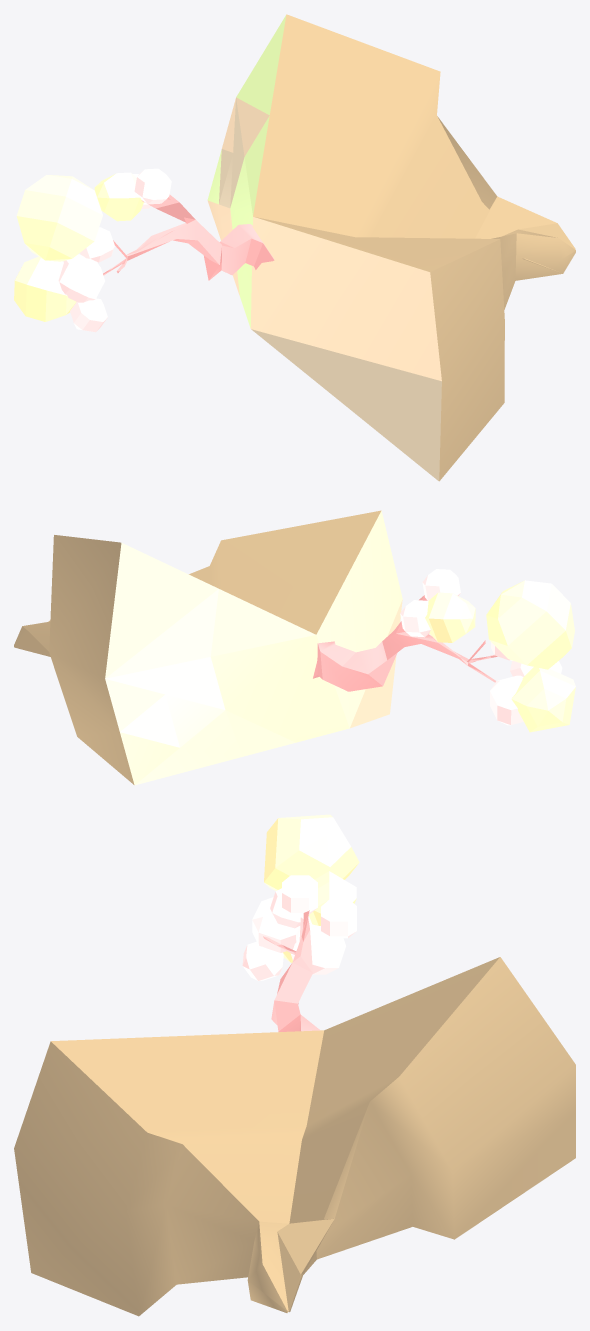
File: chunk3.fbx
3 views of the same model, one above another, from view 1: azimuth 30°, elevation 25°; view 2: azimuth 150°, elevation 25°; view 3: azimuth 270°, elevation 25° (orthographic). The views are drawn at different scales.
Visible parts, largest first — view 1: chunk3; view 2: chunk3; view 3: chunk3.
Part boxes in pixels (x1,y1,x2,y2): chunk3: (14, 14, 575, 481); chunk3: (14, 510, 575, 785); chunk3: (14, 814, 575, 1316).
Bounding box in the file's own units: 8.29 × 4.39 × 6.47.
